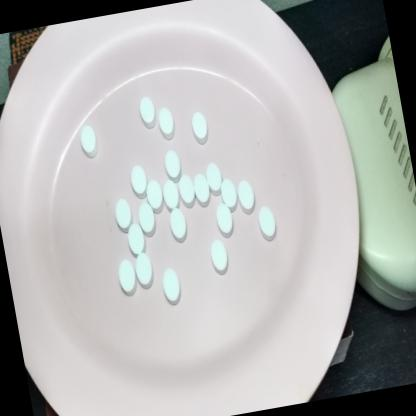Paracetamol: (76, 121, 102, 162), (159, 266, 184, 307), (132, 250, 156, 292), (134, 200, 158, 238), (166, 206, 190, 244), (254, 204, 278, 242), (115, 258, 139, 296), (212, 201, 235, 239), (208, 238, 230, 277), (155, 104, 177, 142), (112, 197, 135, 233), (136, 94, 159, 130), (235, 178, 257, 214), (189, 110, 211, 146), (128, 164, 150, 200), (176, 174, 198, 209), (162, 148, 183, 184), (203, 160, 224, 196), (145, 178, 166, 214), (126, 222, 148, 256), (192, 172, 212, 208), (219, 178, 240, 212), (161, 178, 181, 210)
